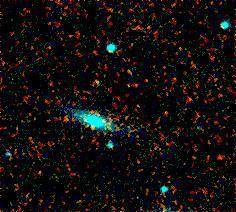star: (80, 139, 110, 169)
